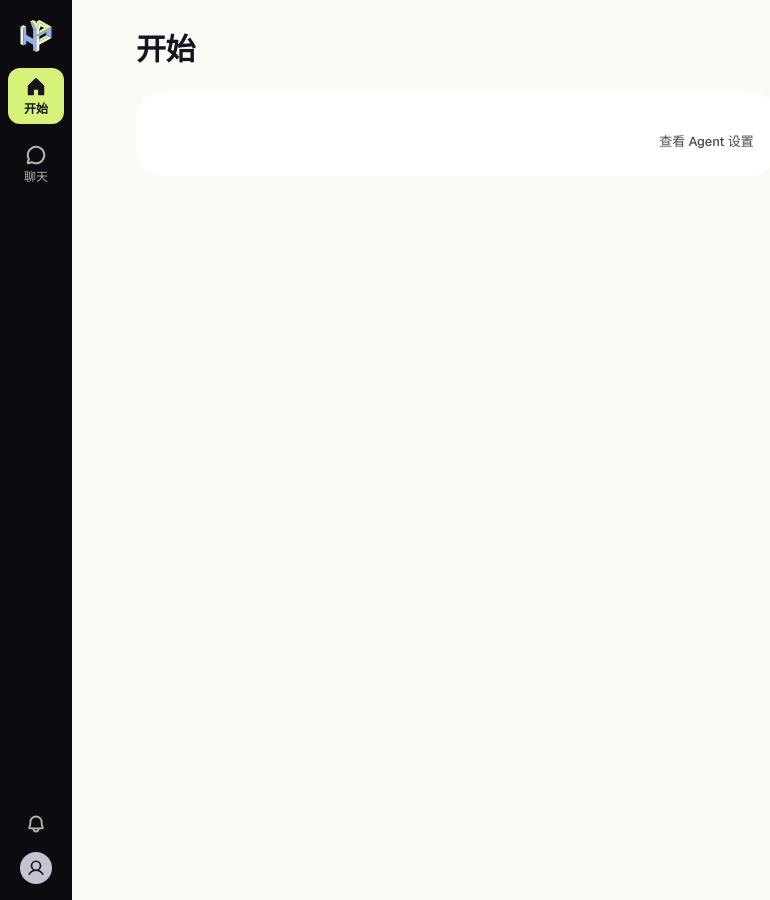
Test: account menu › opens as a menu, moves focus and closes with Escape
This screenshot has width=770, height=900.
Click the button named "我的账号与 Agent 设置菜单": (36, 868) left=16, top=848, right=56, bottom=888
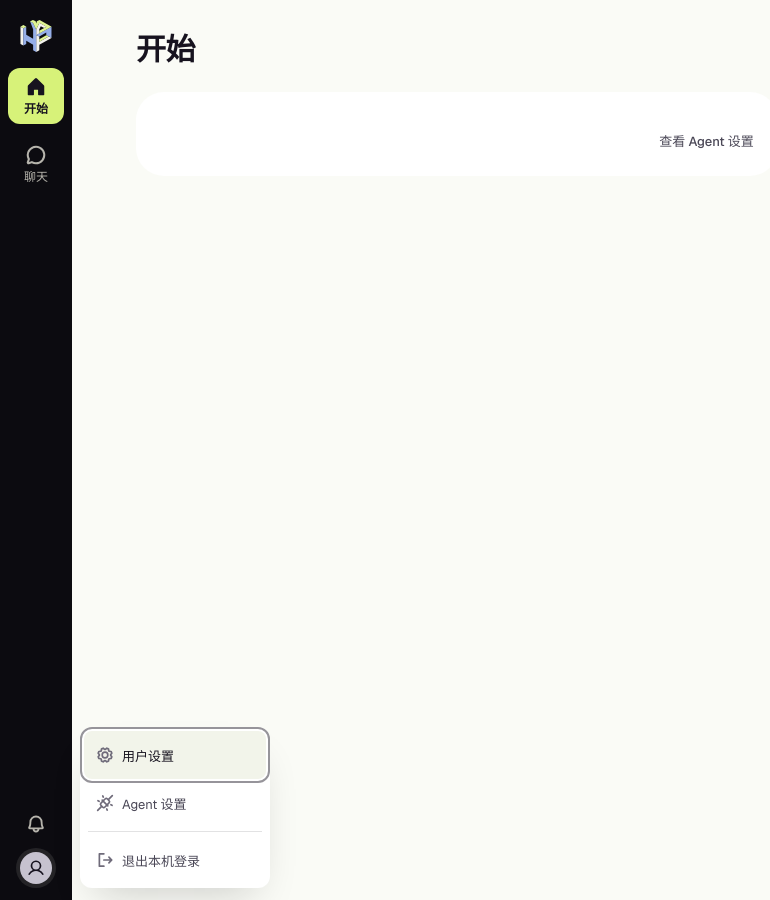
Expected: the menu named "账号菜单" is shown, left=80, top=727, right=270, bottom=888
Press Arrowdown
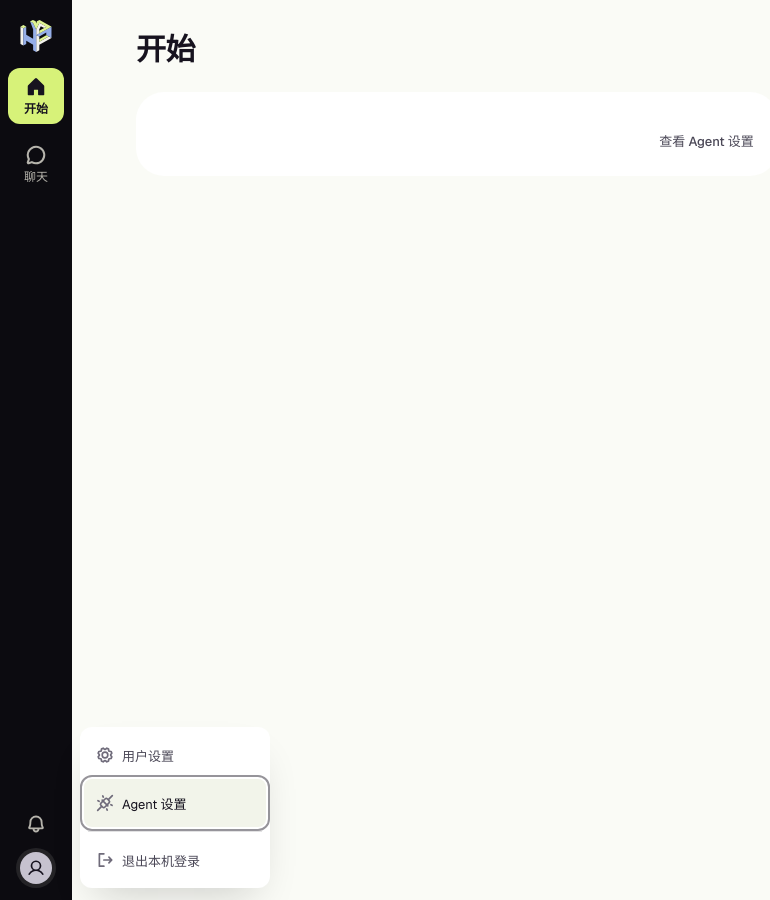
Press Escape
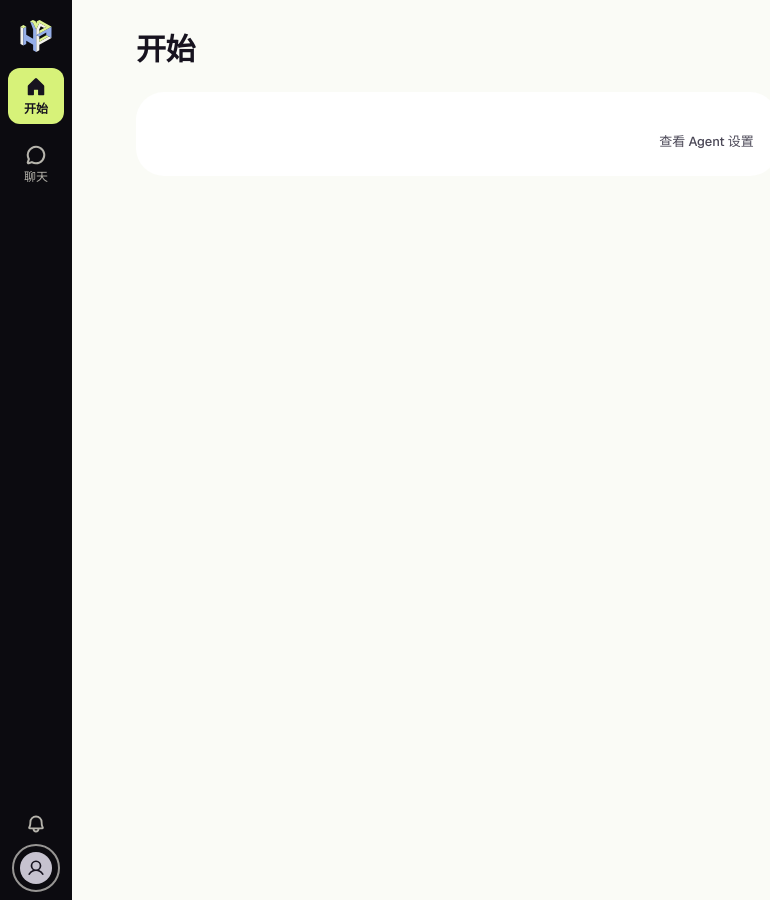
Expected: the menu is gone
Expected: the button named "我的账号与 Agent 设置菜单" is collapsed, left=16, top=848, right=56, bottom=888
